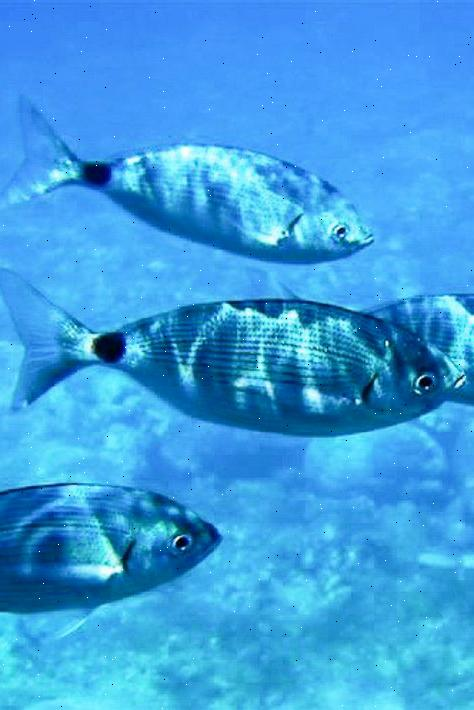fish: (0, 266, 465, 437), (1, 96, 375, 266), (0, 481, 222, 643), (368, 291, 474, 406)
